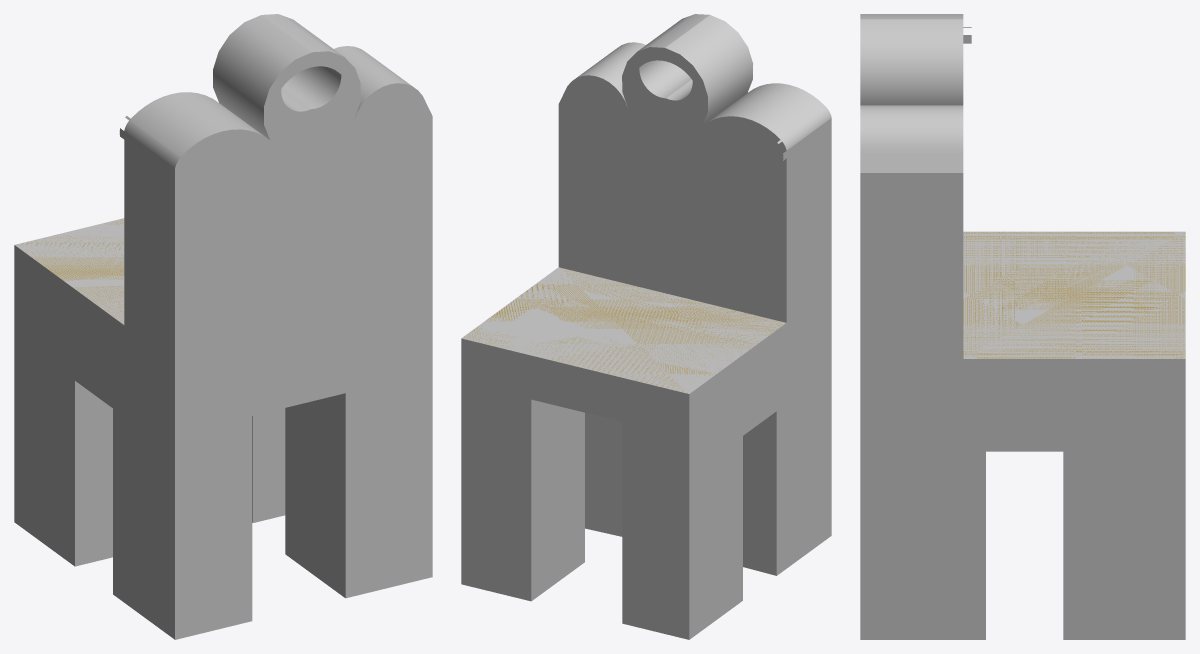
The picture shows the model from 3 angles, left to right: view 1: azimuth 30°, elevation 25°; view 2: azimuth 150°, elevation 25°; view 3: azimuth 270°, elevation 25°; orthographic projection. The views are drawn at different scales.
Parts seen in each view (by area): view 1: mesh1_mesh1-geometry; view 2: mesh1_mesh1-geometry; view 3: mesh1_mesh1-geometry.
Boxes of the visible parts, bbox=[...] form: mesh1_mesh1-geometry: bbox=[14, 14, 432, 639]; mesh1_mesh1-geometry: bbox=[461, 14, 831, 639]; mesh1_mesh1-geometry: bbox=[860, 14, 1185, 639].
Size of the model in its own units: 0.2651 by 0.5445 by 0.2862.
